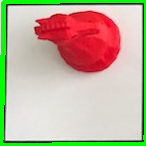Red Knight: (32, 9, 123, 74)
